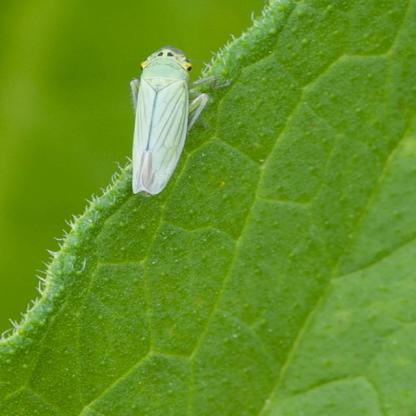Green-Leafhopper: (124, 47, 213, 198)
